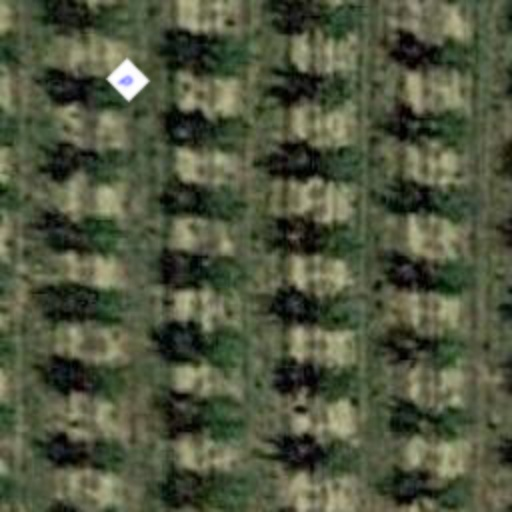rectangle: (104, 56, 152, 104)
